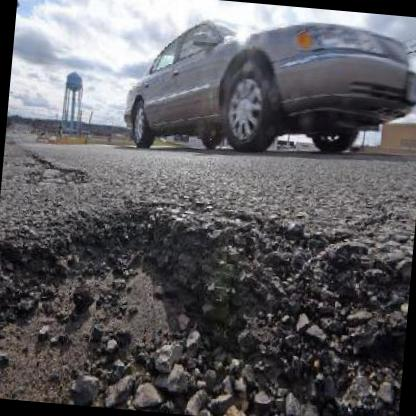pothole: (0, 183, 415, 416), (51, 166, 93, 186)
